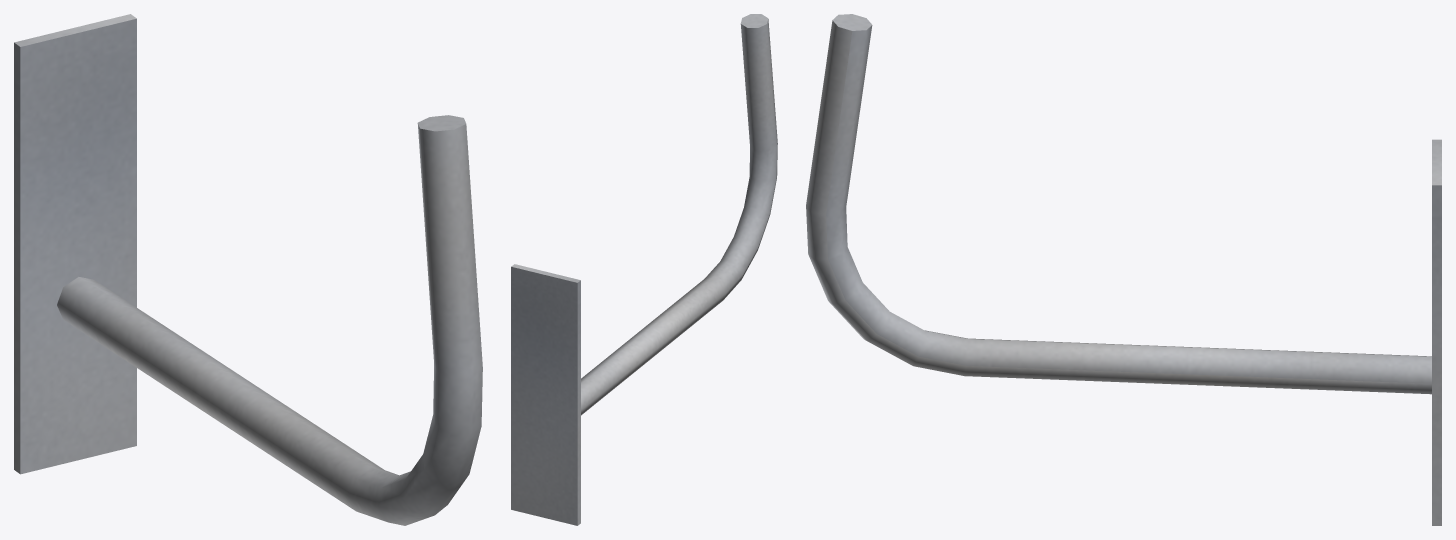
File: haken_bogen.obj
The picture shows the model from 3 angles, left to right: view 1: azimuth 30°, elevation 25°; view 2: azimuth 150°, elevation 25°; view 3: azimuth 270°, elevation 25°; orthographic projection. The views are drawn at different scales.
Visible parts, largest first — view 1: Vorlage_Haken_bogen; view 2: Vorlage_Haken_bogen; view 3: Vorlage_Haken_bogen.
Boxes of the visible parts, bbox=[...] form: Vorlage_Haken_bogen: bbox=[14, 14, 482, 525]; Vorlage_Haken_bogen: bbox=[511, 14, 777, 525]; Vorlage_Haken_bogen: bbox=[806, 14, 1441, 525].
Size of the model in its own units: 0.016 by 0.0794 by 0.0947.
1 material, 1 textured.
